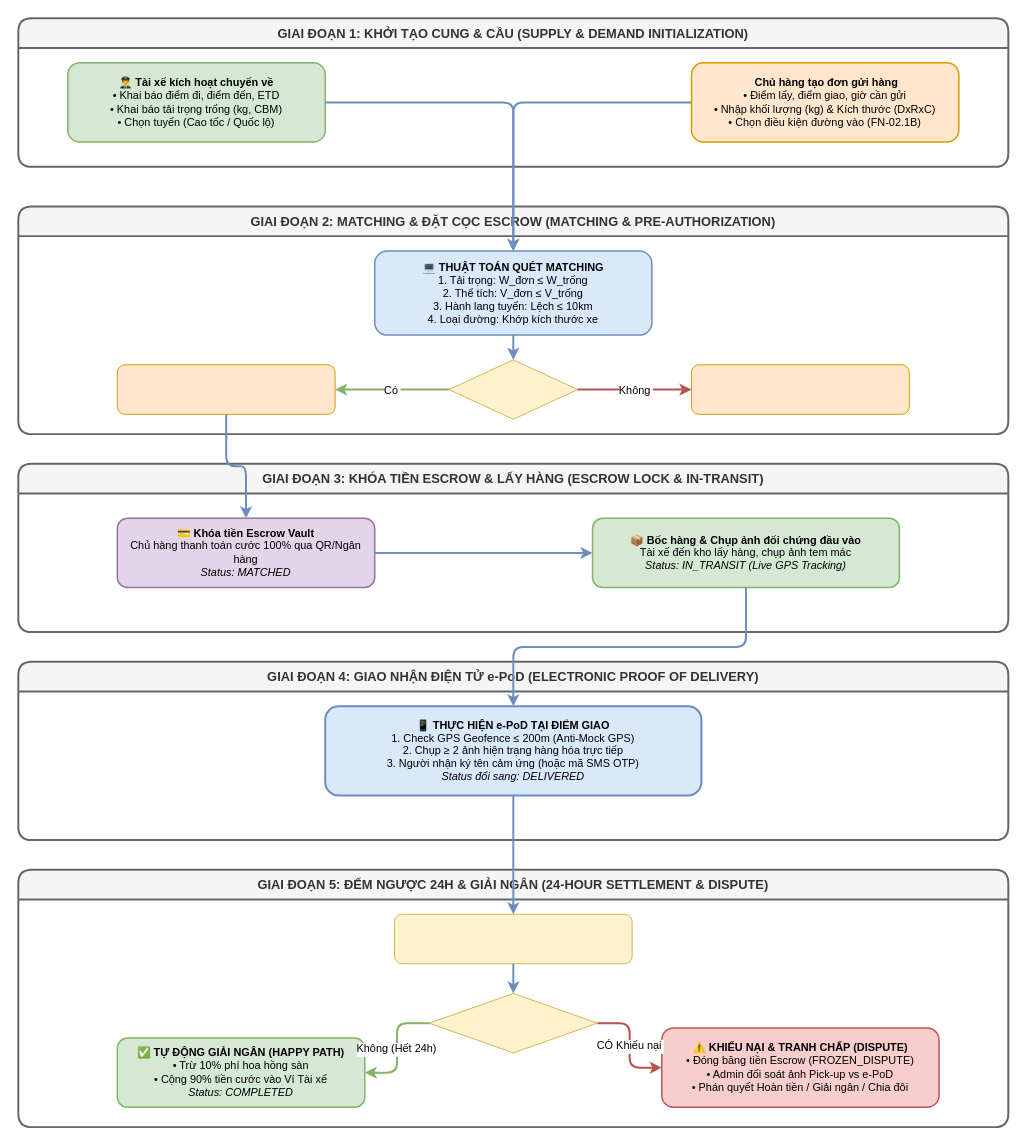
The diagram is 1026 pixels wide and 1144 high, and some of its shapes have lost their labels. The shapes that lost their labels are listed below. From the top down, each one's centre as x and y in pixels, then its label:
At point (225, 389): "Gợi ý danh sách xe tải chuyến về Chủ hàng chọn xe & Gửi yêu cầu".
At point (513, 389): "Có xe phù hợp?".
At point (800, 389): "Đăng đơn lên sàn chờ (Pending) Chờ tài xế tiện đường nhận".
At point (513, 938): "⏱️ Kích hoạt bộ đếm ngược 24h Hiện đồng hồ 23:59:59 trên cả 2 App".
At point (512, 1022): "Trong 24h có Khiếu nại?".
